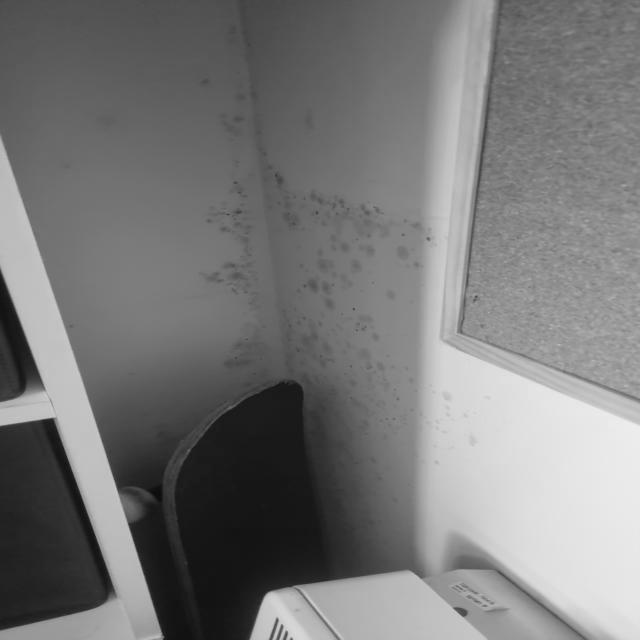stain marks: (121, 13, 496, 561), (50, 104, 117, 188)
